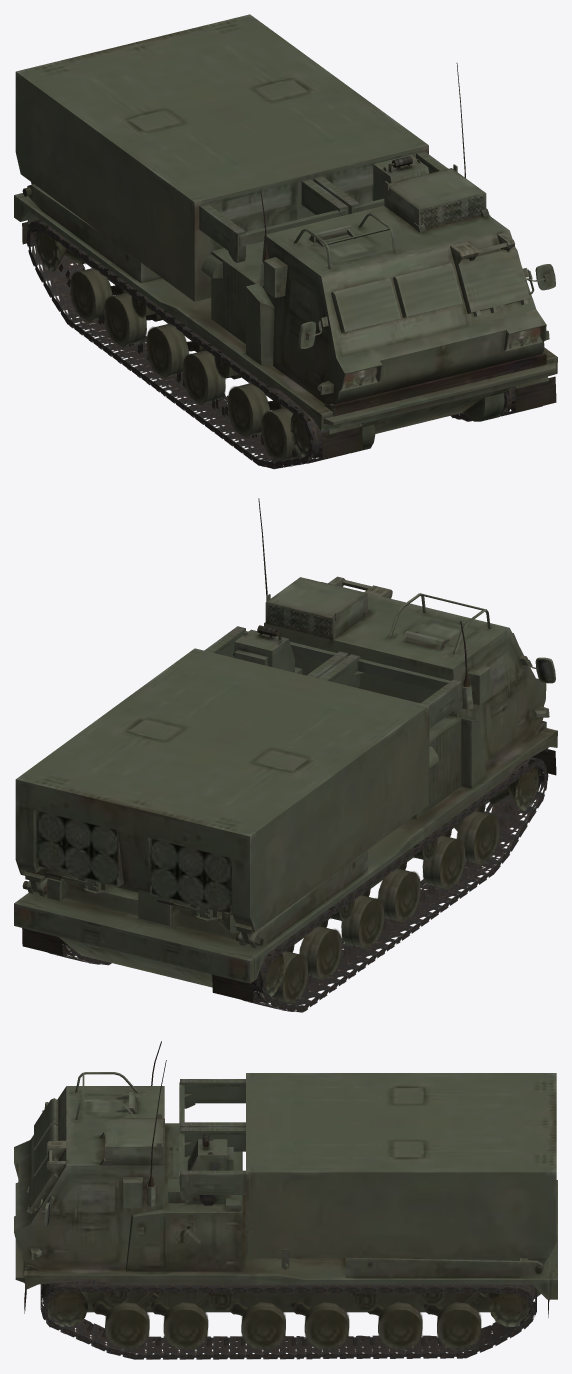
3 views of the same model, one above another, from view 1: azimuth 30°, elevation 25°; view 2: azimuth 150°, elevation 25°; view 3: azimuth 270°, elevation 25° (orthographic). The views are drawn at different scales.
Visible parts, largest first — view 1: Object_4, Object_2; view 2: Object_4, Object_2; view 3: Object_4, Object_2.
Boxes of the visible parts, bbox=[...] form: Object_4: bbox=[14, 14, 557, 461]; Object_2: bbox=[26, 219, 542, 469]; Object_4: bbox=[14, 498, 557, 1004]; Object_2: bbox=[48, 757, 548, 1012]; Object_4: bbox=[14, 1041, 557, 1349]; Object_2: bbox=[40, 1280, 536, 1359].
Bounding box in the file's own units: 3.22 × 4.04 × 6.83.
3 materials, 3 textured.
